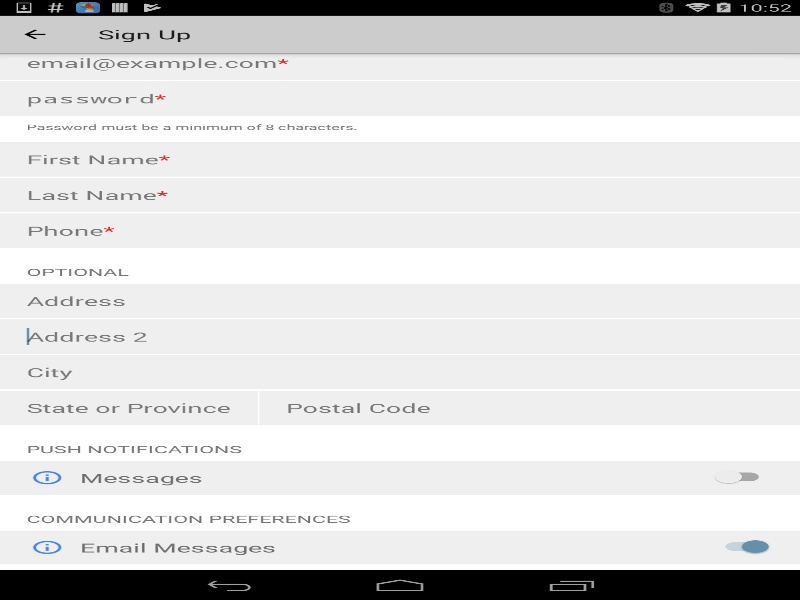Button: (10, 15, 92, 53), (26, 468, 66, 487), (26, 538, 66, 556)
Input: (0, 283, 800, 318), (0, 319, 800, 353), (0, 355, 800, 389), (26, 45, 773, 80), (26, 177, 773, 212), (26, 81, 773, 115), (26, 142, 773, 176), (26, 213, 773, 247), (259, 390, 800, 425), (0, 390, 258, 425)
